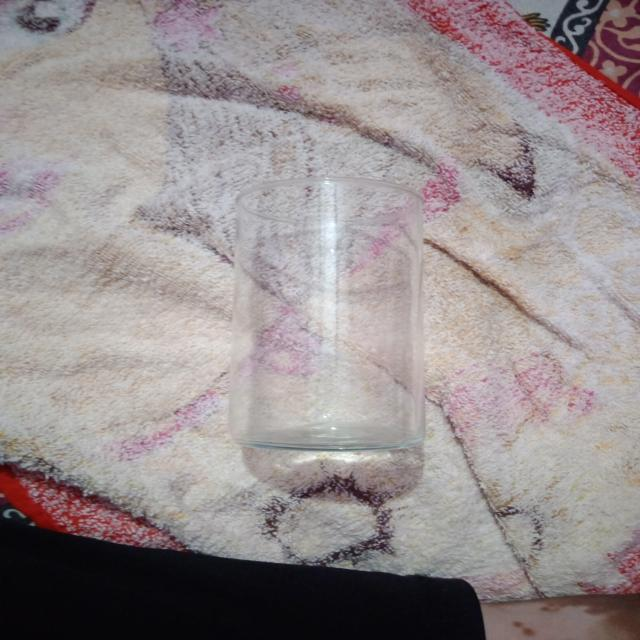Glass: (226, 173, 435, 456)
